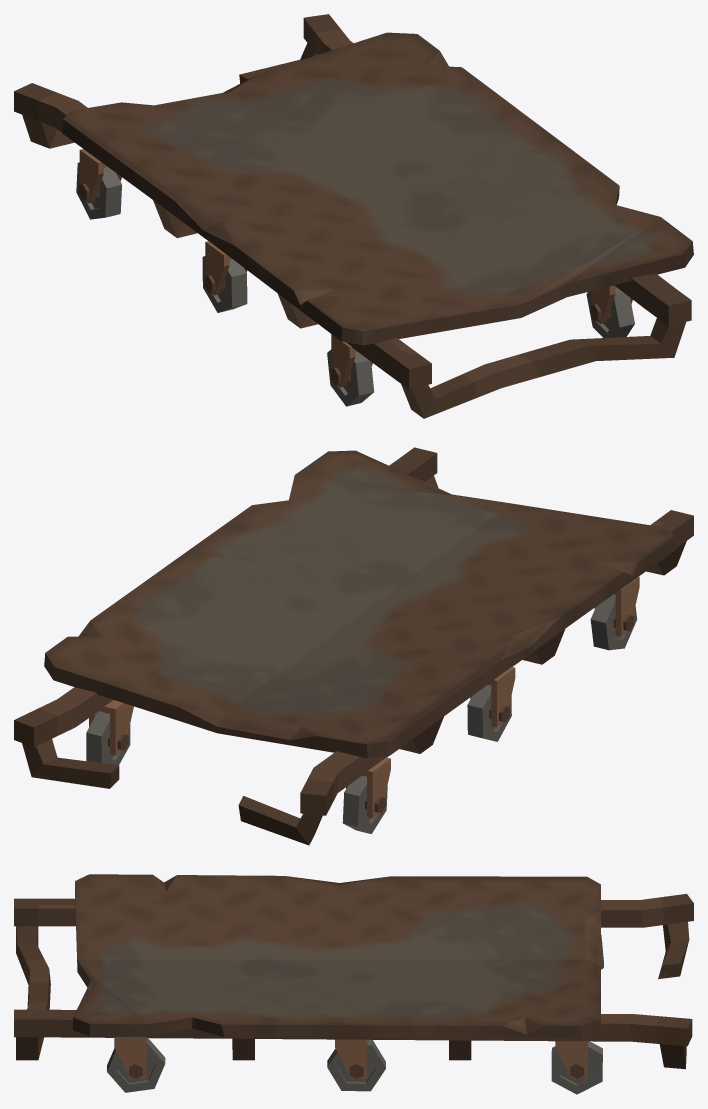
The model's file is SM_Prop_Creeper_01.obj.
3 views of the same model, one above another, from view 1: azimuth 30°, elevation 25°; view 2: azimuth 150°, elevation 25°; view 3: azimuth 270°, elevation 25° (orthographic). The views are drawn at different scales.
Visible parts, largest first — view 1: SM_Prop_Creeper_01_0; view 2: SM_Prop_Creeper_01_0; view 3: SM_Prop_Creeper_01_0.
Boxes of the visible parts, x1,y1,x2,y2 form: SM_Prop_Creeper_01_0: (14, 14, 693, 418); SM_Prop_Creeper_01_0: (14, 447, 693, 845); SM_Prop_Creeper_01_0: (14, 874, 693, 1094).
Bounding box in the file's own units: 0.7571 × 0.2111 × 1.42.
1 material, 1 textured.
